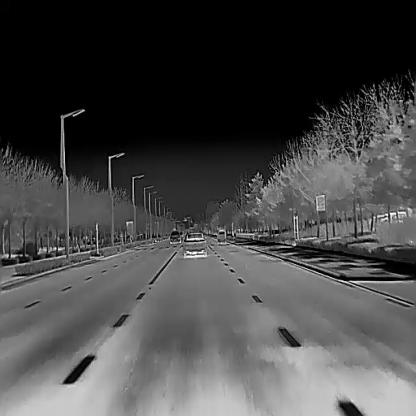car: (182, 232, 206, 254), (169, 229, 180, 242), (216, 228, 225, 242)
